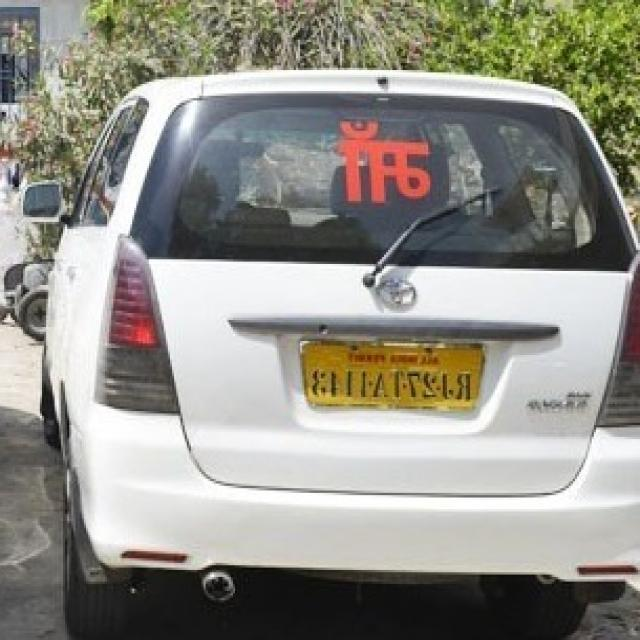license_plate: (293, 336, 485, 413)
